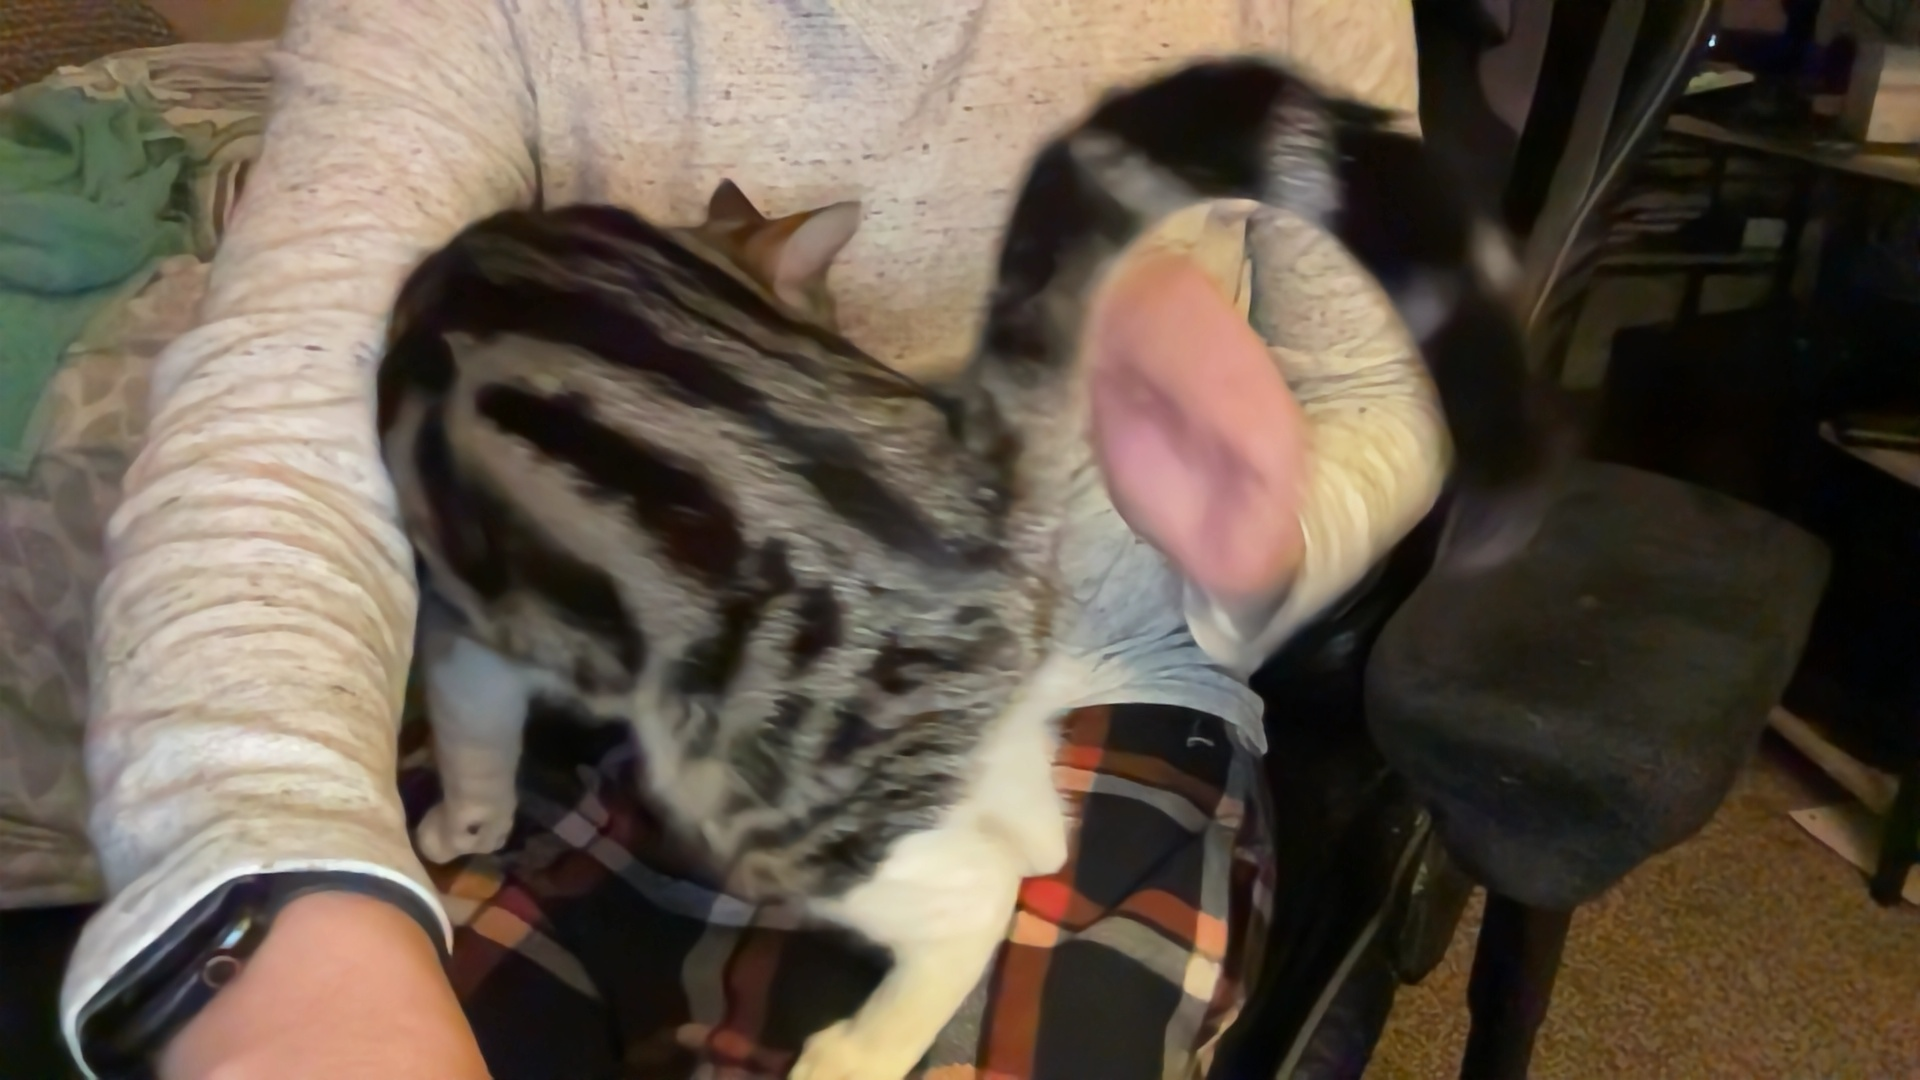cat: (331, 66, 1367, 1080)
